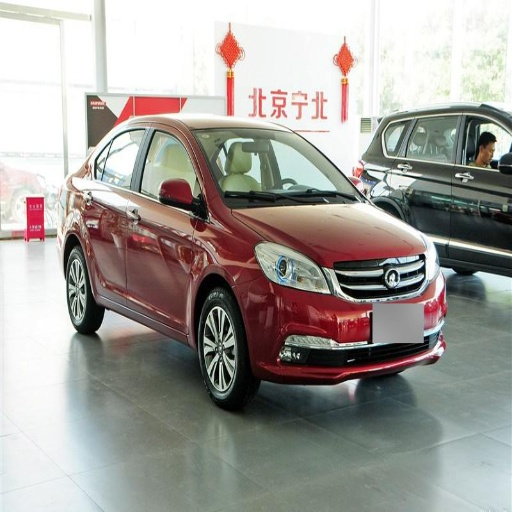front_bumper: (240, 254, 447, 383)
front_right_door: (127, 125, 206, 324), (454, 113, 506, 204)
front_right_light: (255, 241, 330, 293)
